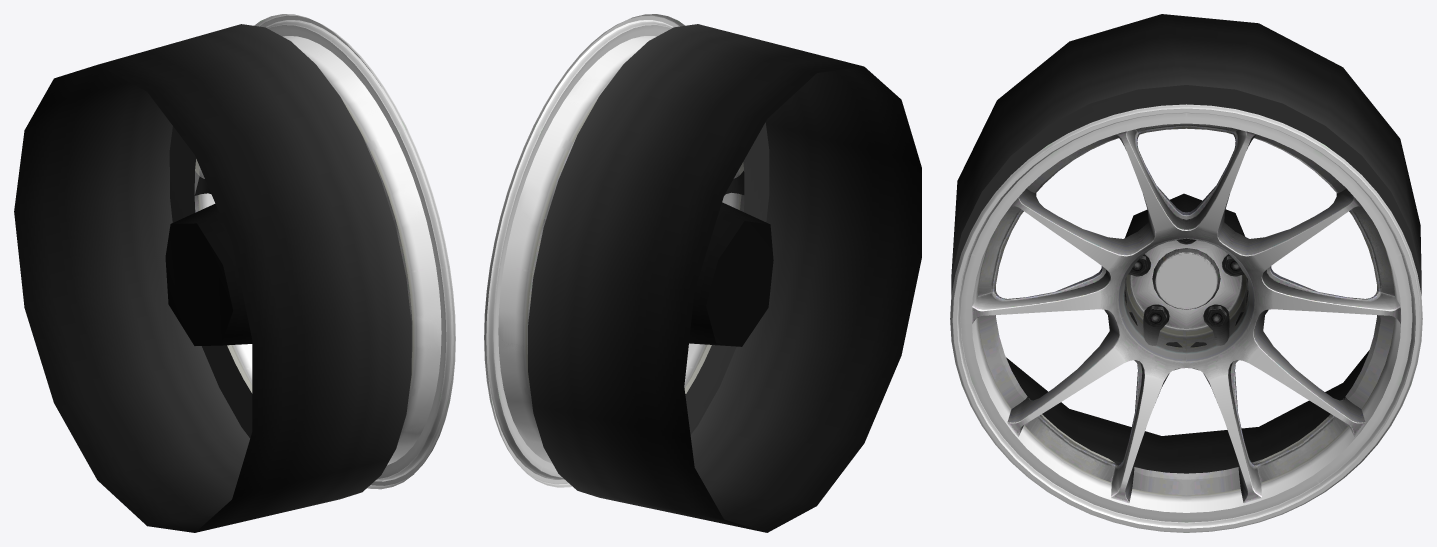
The model's file is wheel67.fbx.
3 views of the same model, side by side, from view 1: azimuth 30°, elevation 25°; view 2: azimuth 150°, elevation 25°; view 3: azimuth 270°, elevation 25° (orthographic). The views are drawn at different scales.
Parts seen in each view (by area): view 1: wed_tc_105n_wheel_wheel_inner_rim_, wheel_rim, wed_tc_105n_wheel_wheel_rim_; view 2: wed_tc_105n_wheel_wheel_inner_rim_, wheel_rim, wed_tc_105n_wheel_wheel_rim_; view 3: wed_tc_105n_wheel_wheel_inner_rim_, wheel_rim, wed_tc_105n_wheel_wheel_rim_.
Boxes of the visible parts, <box> form: wed_tc_105n_wheel_wheel_inner_rim_: <box>14,24,411,532</box>; wheel_rim: <box>194,14,455,489</box>; wed_tc_105n_wheel_wheel_rim_: <box>195,36,441,446</box>; wed_tc_105n_wheel_wheel_inner_rim_: <box>528,24,921,532</box>; wheel_rim: <box>484,14,744,487</box>; wed_tc_105n_wheel_wheel_rim_: <box>498,36,739,452</box>; wed_tc_105n_wheel_wheel_inner_rim_: <box>951,14,1421,473</box>; wheel_rim: <box>950,104,1422,532</box>; wed_tc_105n_wheel_wheel_rim_: <box>972,124,1400,512</box>.
Bounding box in the file's own units: 0.2291 × 0.4795 × 0.4795.
1 material, 1 textured.
